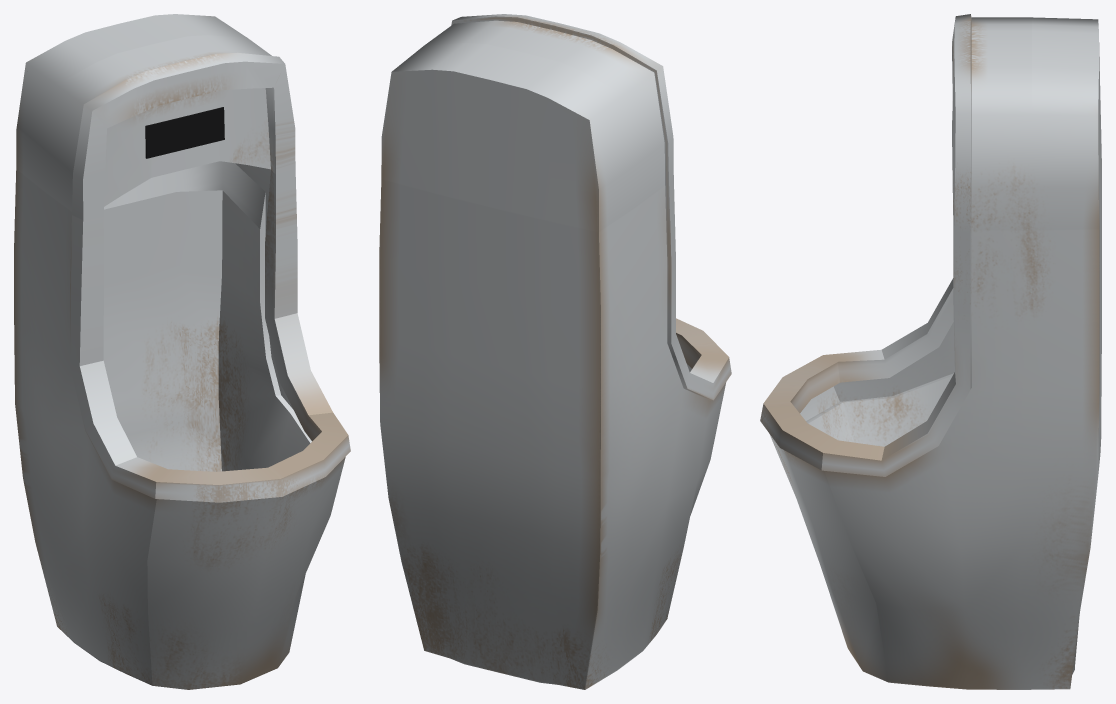
Rendered from ToiletStandModel.fbx.
3 views of the same model, side by side, from view 1: azimuth 30°, elevation 25°; view 2: azimuth 150°, elevation 25°; view 3: azimuth 270°, elevation 25° (orthographic). The views are drawn at different scales.
Parts seen in each view (by area): view 1: toiket_GEO, sensor_GEO; view 2: toiket_GEO; view 3: toiket_GEO.
Boxes of the visible parts, x1,y1,x2,y2 form: toiket_GEO: (14, 14, 350, 689); sensor_GEO: (145, 107, 224, 158); toiket_GEO: (379, 14, 731, 689); toiket_GEO: (760, 14, 1101, 689).
Size of the model in its own units: 33.03 by 82.27 by 41.95.
1 material, 1 textured.
